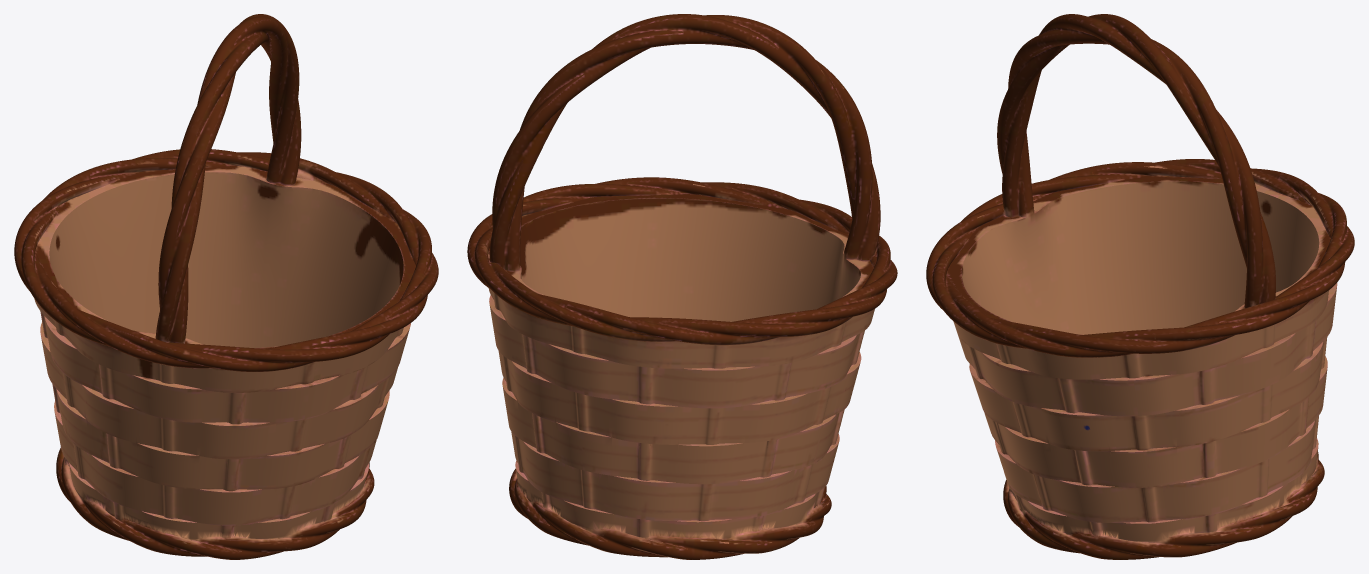
The model's file is basket.fbx.
3 views of the same model, side by side, from view 1: azimuth 30°, elevation 25°; view 2: azimuth 150°, elevation 25°; view 3: azimuth 270°, elevation 25° (orthographic).
Visible parts, largest first — view 1: node_id30; view 2: node_id30; view 3: node_id30.
Part boxes in pixels (x1,y1,x2,y2): node_id30: [14, 14, 438, 559]; node_id30: [467, 14, 897, 559]; node_id30: [926, 14, 1354, 559].
Size of the model in its own units: 0.4024 by 0.5027 by 0.4006.
Materials: 1 (1 with a texture image).
